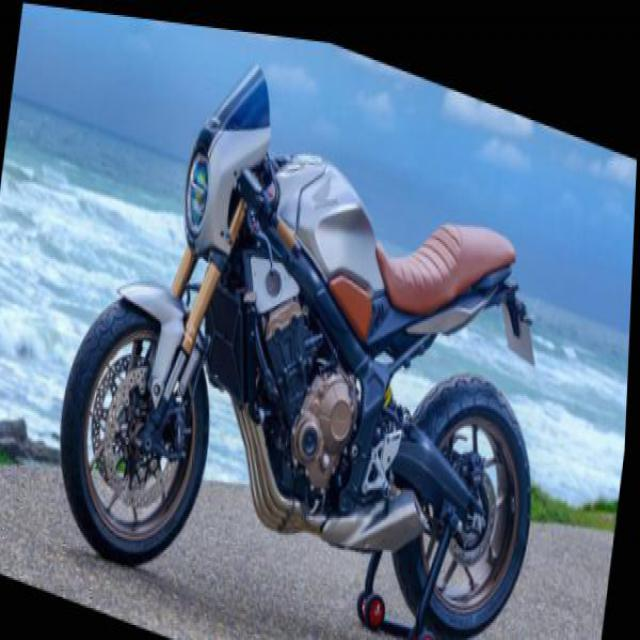CB650R: (46, 6, 577, 638)
